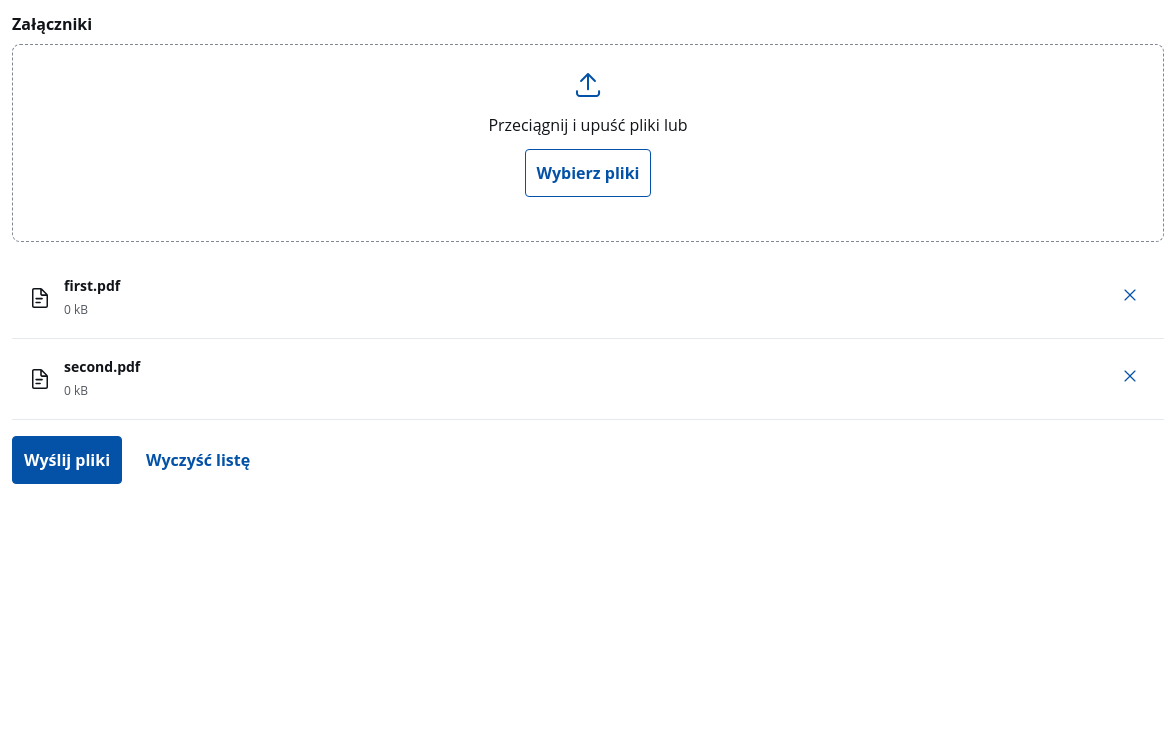
Test: upload transport and browser validation contracts › aborts removal and unmount, ignoring progress and completion from both stale transports
Click the button "Wyślij pliki" at (67, 460), box [12,436,122,484]
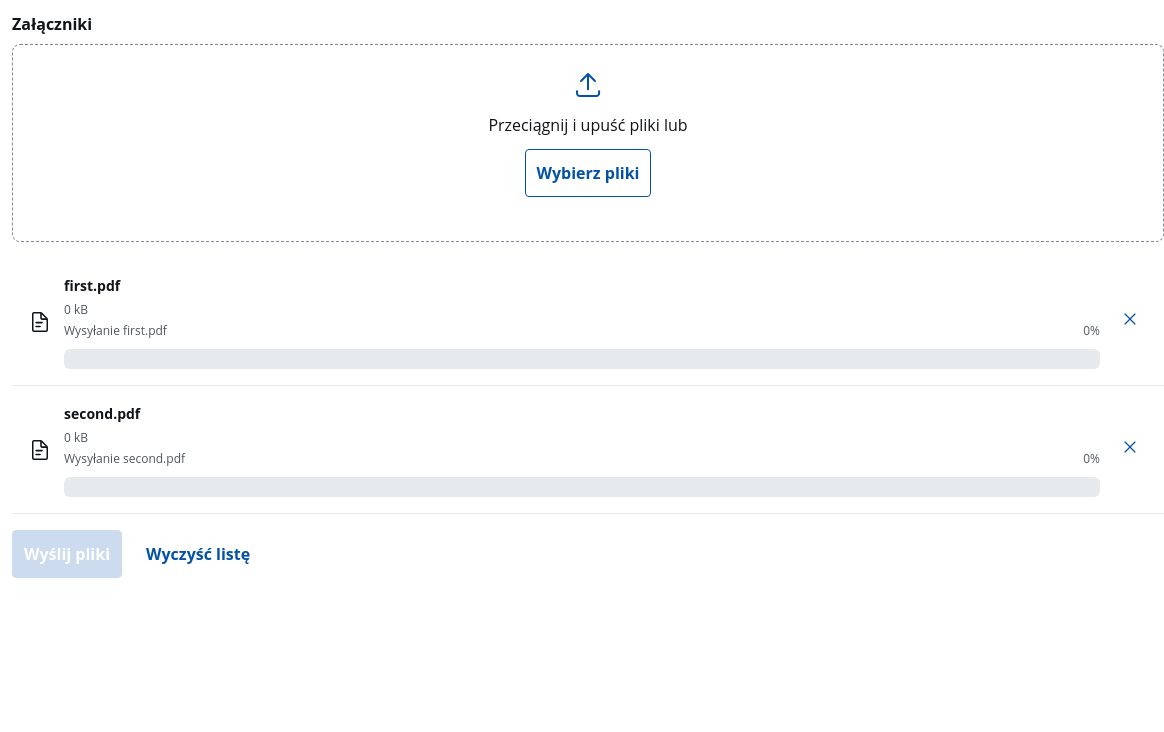
Click the button named "Usuń first.pdf" at (1130, 322), box [1112,300,1148,342]
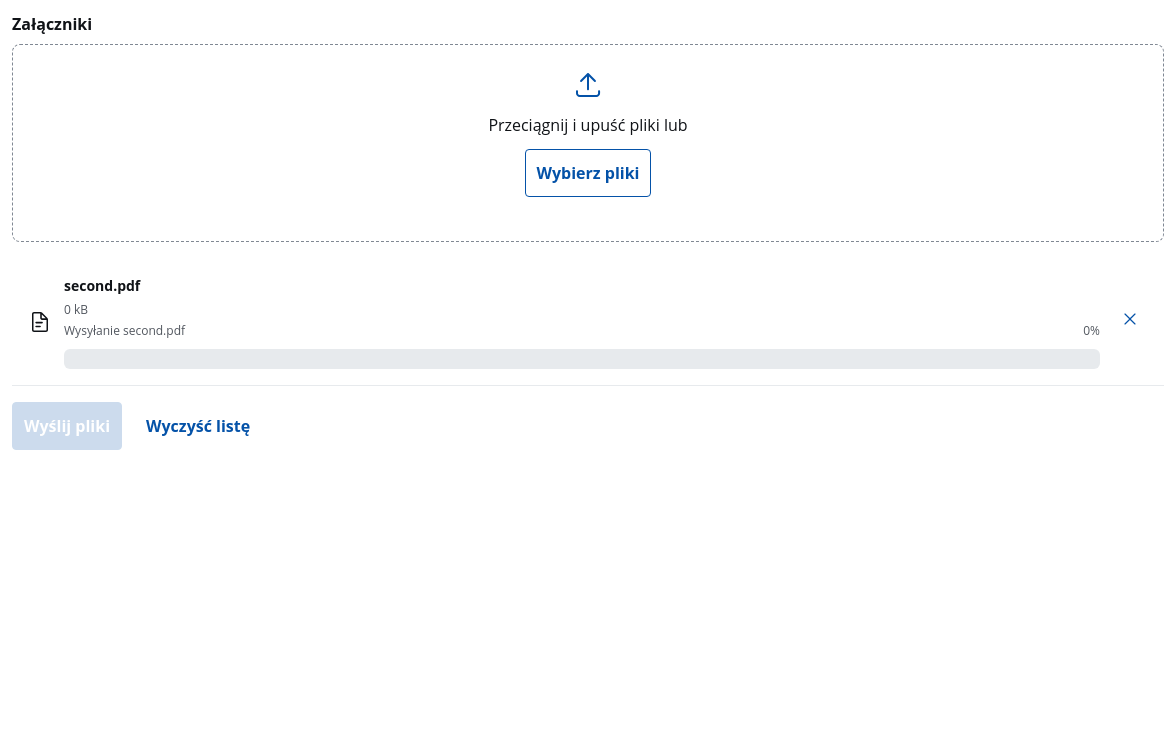
Check: the text "first.pdf" is gone
